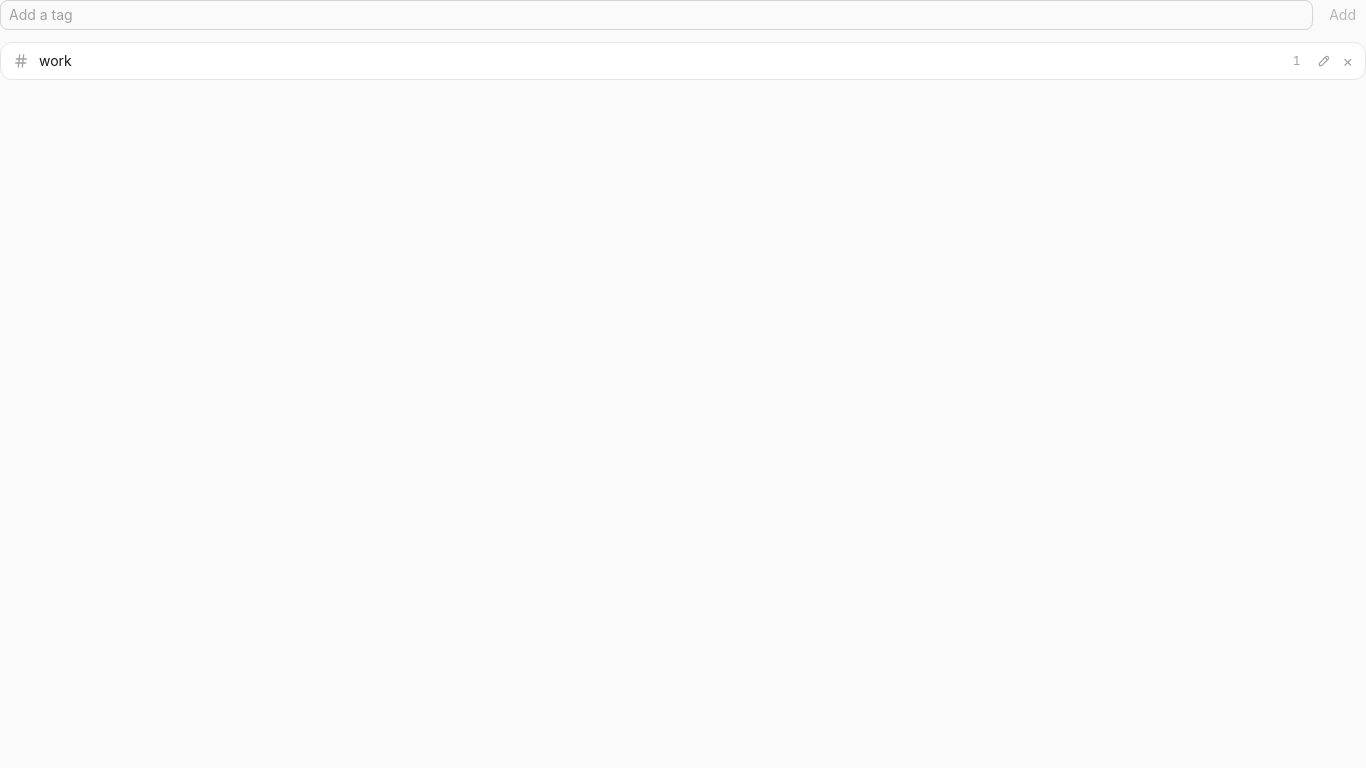
Test: TagList › deletes a tag from its button once asked in a sheet, saying the tasks stay (TAG-22)
The width and height of the screenshot is (1366, 768).
Click the button named "Delete the tag \"work\"".
click(1348, 61)  # box [1336,49,1359,73]
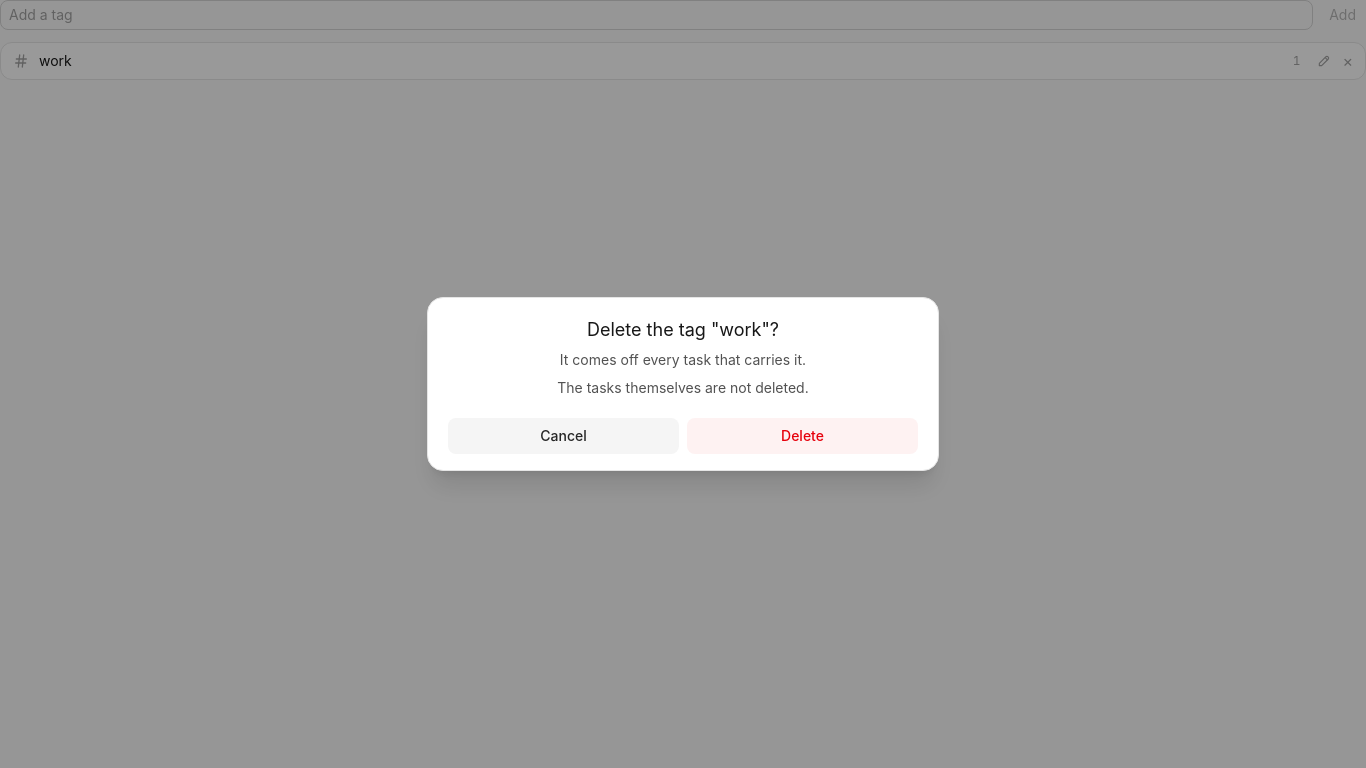
Click the button "Delete".
click(802, 436)  # box [687,418,918,454]
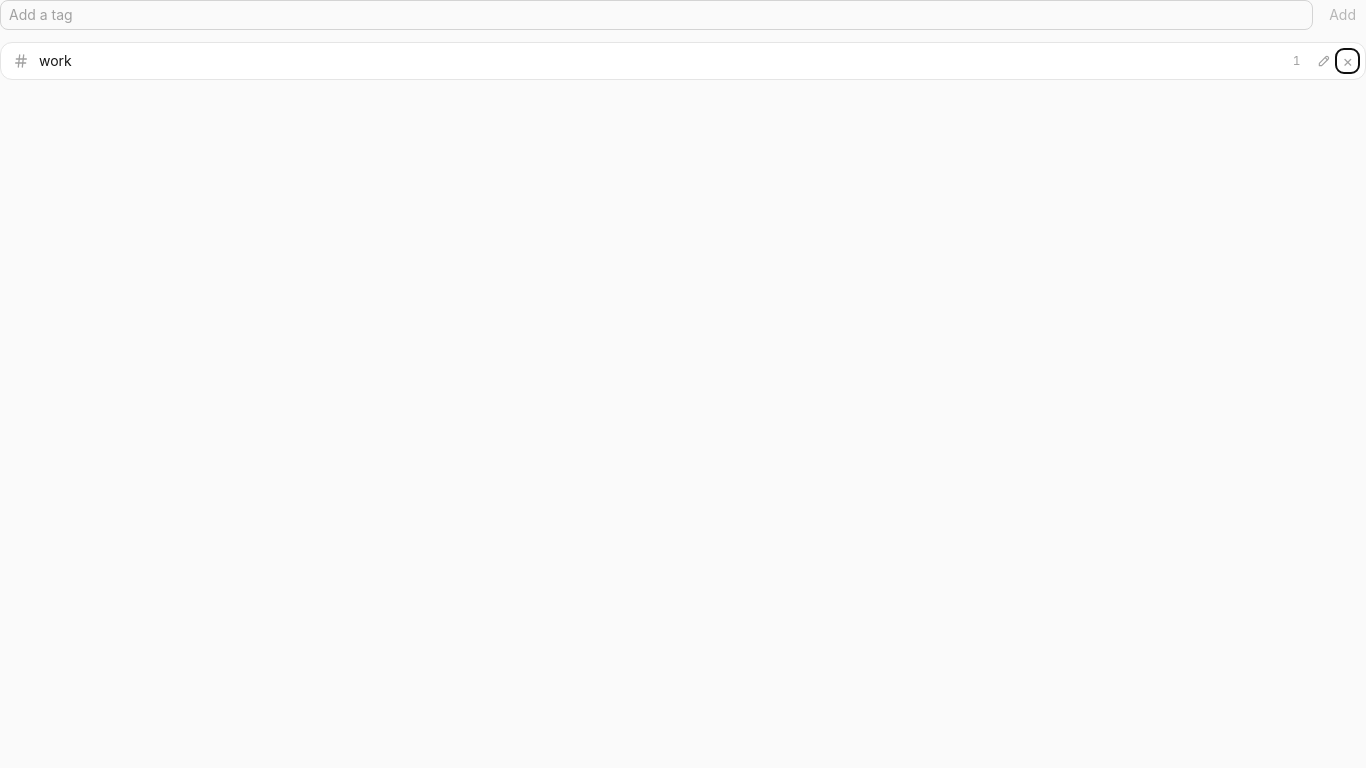
Now the dialog is gone
